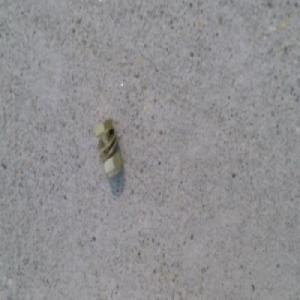BoltNutSet: (93, 115, 122, 177)
